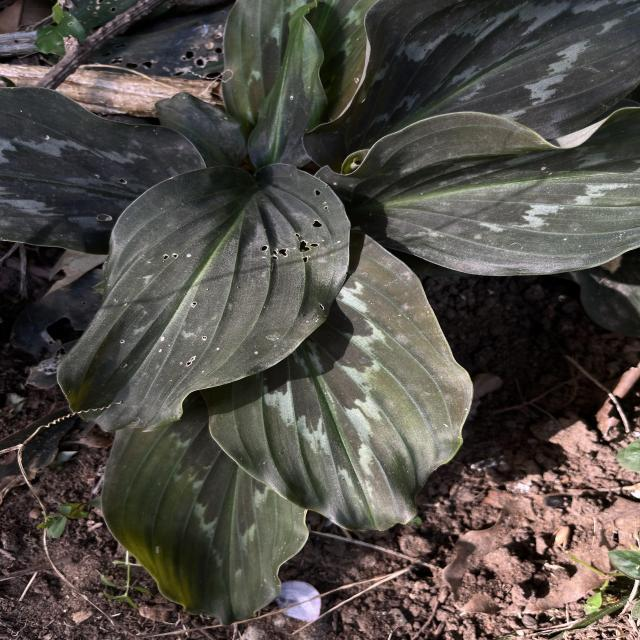Kaempferia galanga linn: (199, 225, 475, 535), (52, 159, 354, 435), (297, 0, 640, 172), (312, 103, 640, 278), (98, 425, 311, 630), (244, 0, 332, 171)
